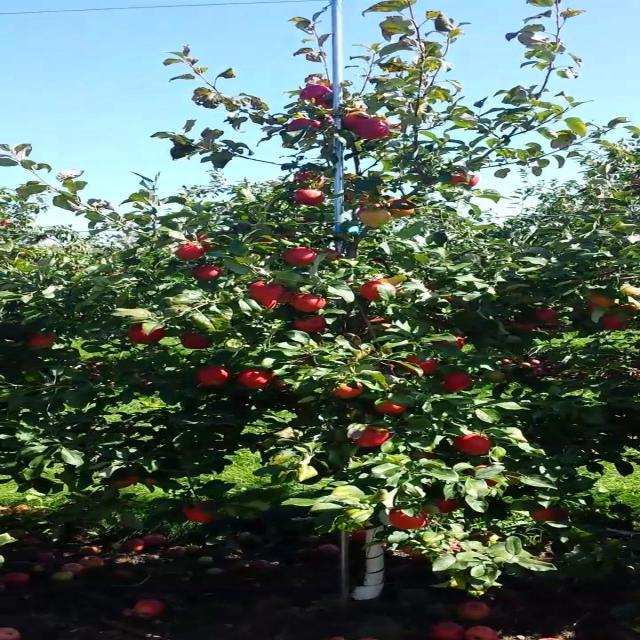apple: (127, 324, 167, 344), (390, 512, 428, 532), (454, 436, 492, 456), (362, 280, 398, 301), (404, 356, 441, 376), (284, 248, 320, 268), (355, 428, 391, 448), (440, 372, 476, 392), (305, 84, 334, 107), (198, 368, 233, 387), (184, 504, 217, 524), (362, 204, 391, 226), (291, 316, 327, 333), (340, 112, 372, 131), (241, 372, 276, 389), (362, 120, 391, 140), (248, 284, 284, 300), (291, 296, 327, 312), (476, 464, 500, 488), (291, 120, 322, 138), (532, 508, 569, 523), (298, 188, 327, 207), (184, 332, 213, 350), (333, 384, 364, 400), (376, 400, 407, 416), (177, 244, 206, 261), (390, 200, 420, 216), (604, 316, 633, 332), (298, 172, 327, 188), (433, 336, 468, 349), (532, 308, 562, 323), (454, 172, 482, 188), (589, 292, 617, 308), (433, 500, 466, 513), (191, 268, 222, 280), (113, 476, 140, 489), (28, 336, 57, 348), (369, 316, 393, 329), (483, 372, 510, 383), (319, 248, 341, 260), (511, 324, 539, 332), (276, 292, 297, 302), (412, 452, 437, 460), (262, 300, 281, 310), (198, 240, 217, 250), (618, 304, 639, 313), (198, 236, 213, 248), (348, 196, 370, 203), (276, 380, 290, 389), (625, 288, 639, 297), (326, 116, 336, 125), (148, 480, 158, 487)
